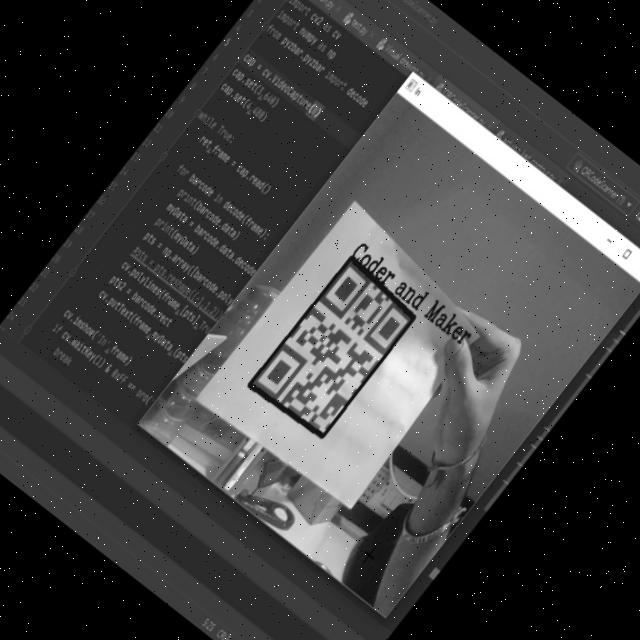QR-codes: (250, 262, 418, 439)
